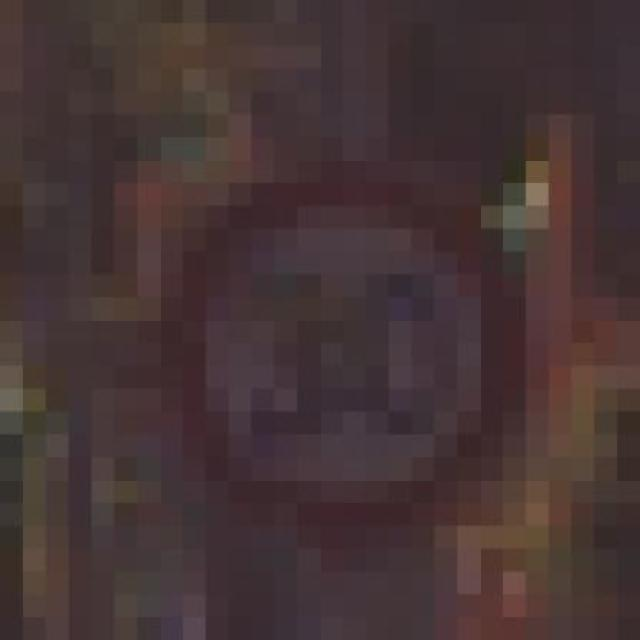Speed Limit 30 KMPh: (91, 137, 572, 549)
